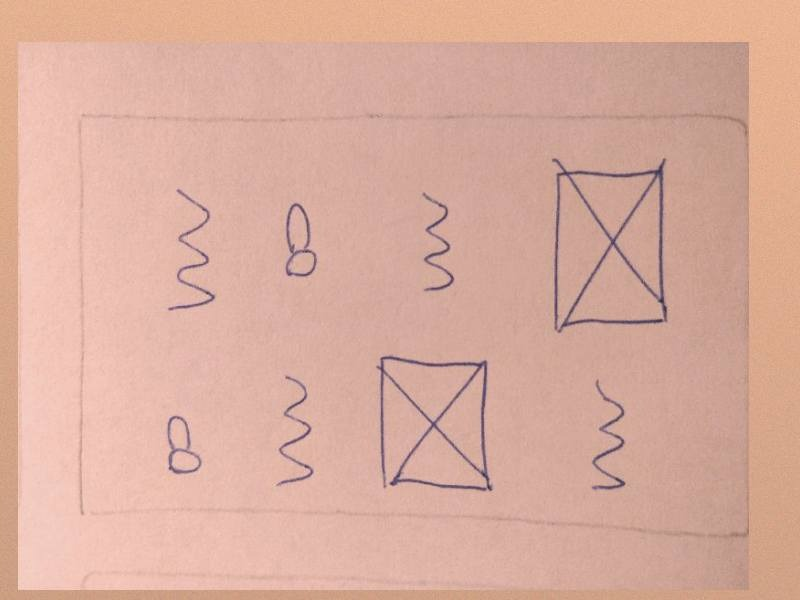image: (535, 158, 672, 337), (362, 345, 503, 501)
switch: (270, 189, 332, 287), (150, 400, 212, 481)
text: (145, 179, 241, 323), (573, 370, 640, 498), (400, 177, 466, 302), (257, 368, 324, 485)
